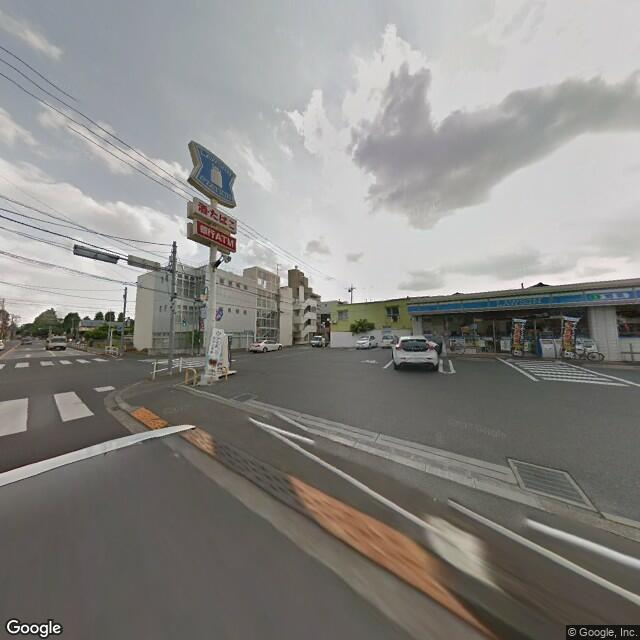lawson: (406, 279, 638, 320), (178, 138, 246, 210)
